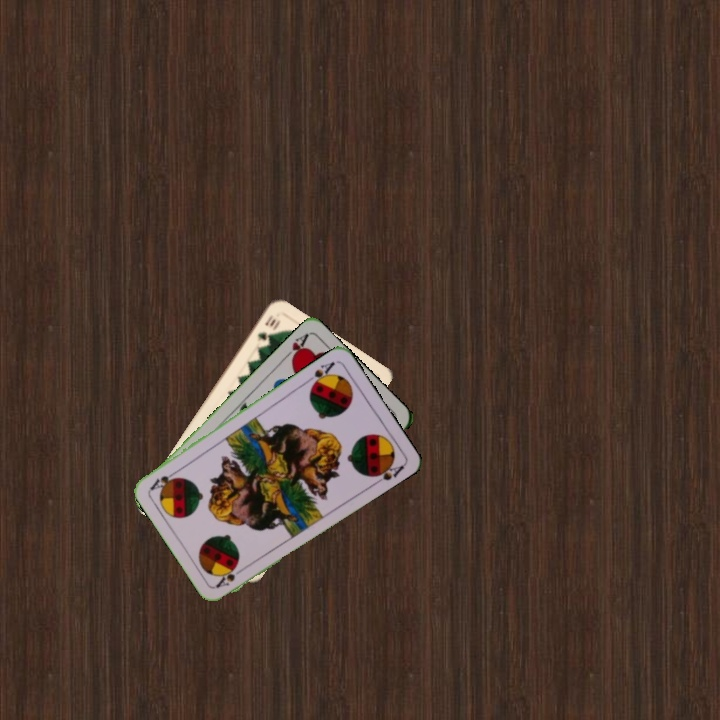G10: (253, 310, 282, 344)
HA: (279, 330, 311, 366)
SA: (303, 357, 337, 390), (212, 561, 248, 591)
